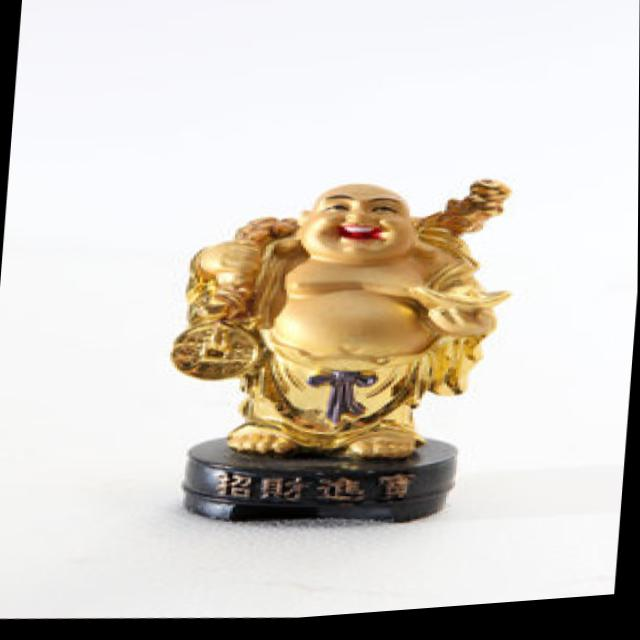Smiling Buddha: (176, 164, 501, 486)
